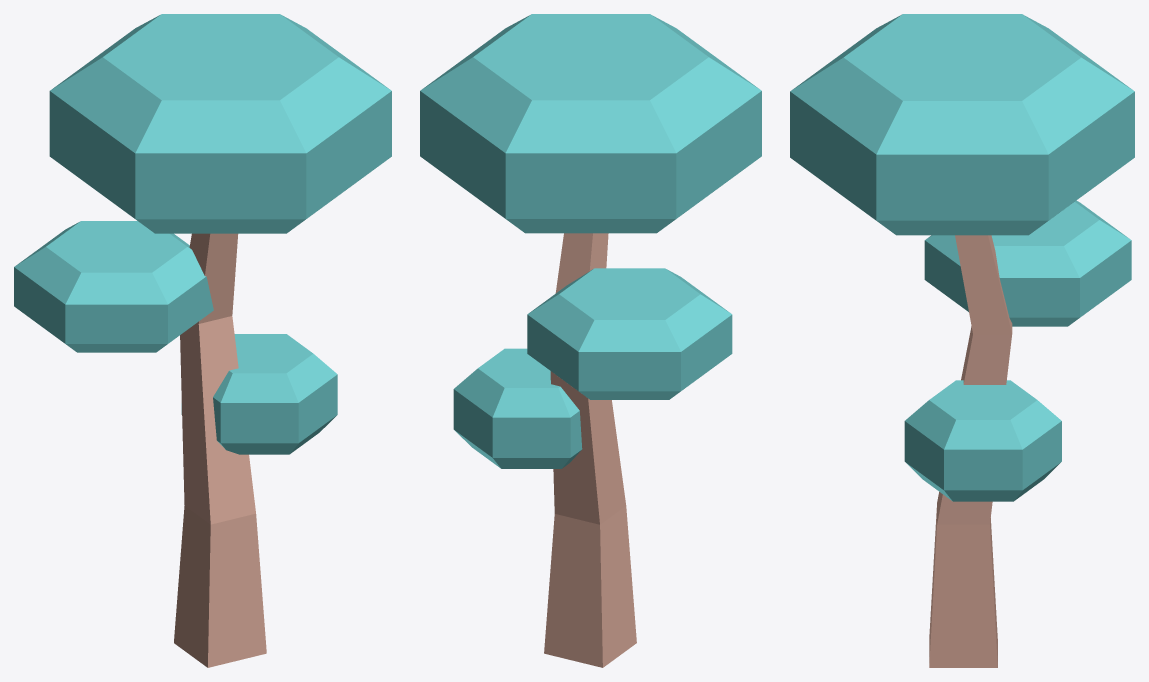
The model's file is tree_plateau_dark.glb.
3 views of the same model, side by side, from view 1: azimuth 30°, elevation 25°; view 2: azimuth 150°, elevation 25°; view 3: azimuth 270°, elevation 25° (orthographic).
Visible parts, largest first — view 1: tree_plateau_dark; view 2: tree_plateau_dark; view 3: tree_plateau_dark.
Part boxes in pixels (x1,y1,x2,y2): tree_plateau_dark: (14, 14, 391, 667); tree_plateau_dark: (420, 14, 761, 667); tree_plateau_dark: (790, 14, 1134, 667).
Size of the model in its own units: 0.6117 by 1.25 by 0.6549.
